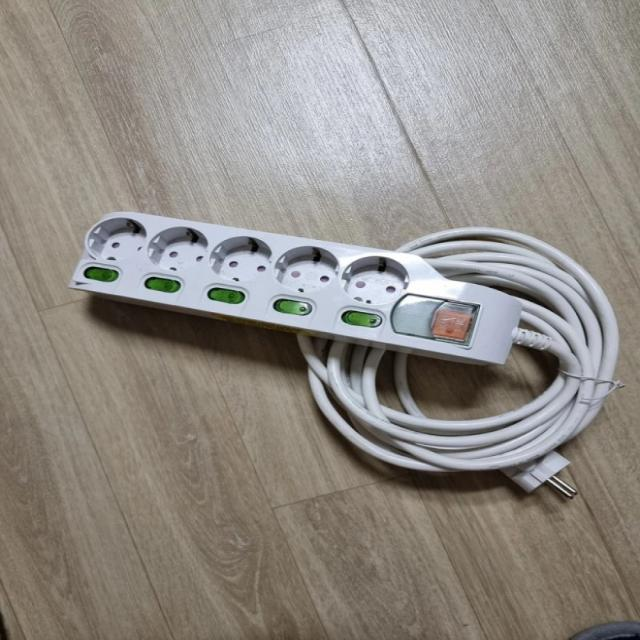typeb: (0, 154, 563, 459)
